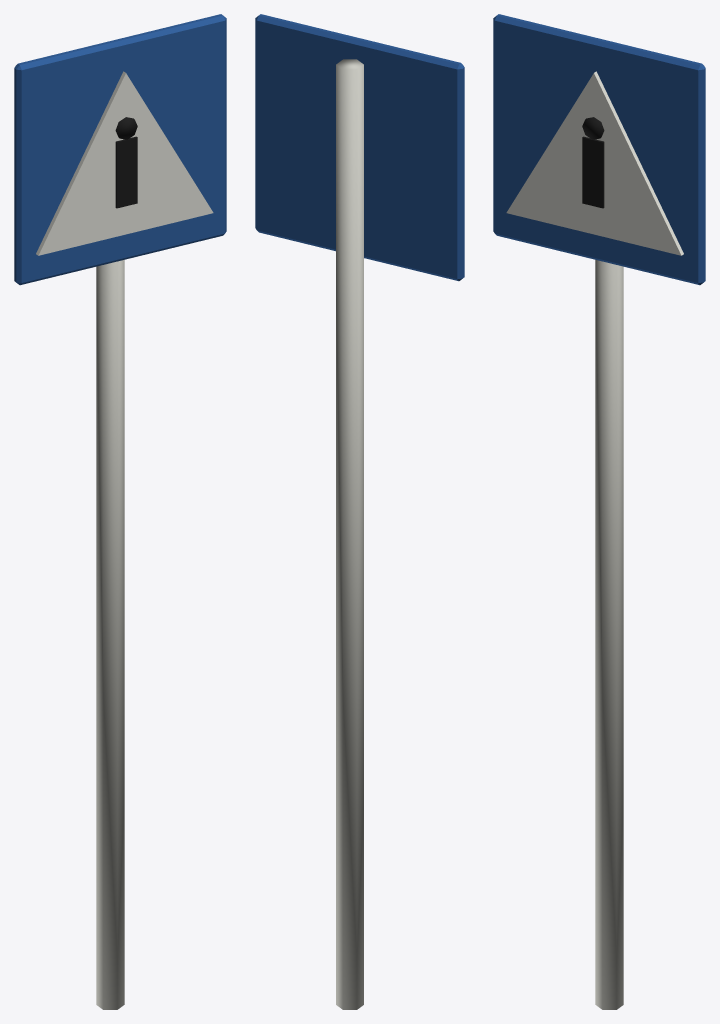
File: sign_crossing.glb
3 views of the same model, side by side, from view 1: azimuth 30°, elevation 25°; view 2: azimuth 150°, elevation 25°; view 3: azimuth 330°, elevation 25° (orthographic).
Parts seen in each view (by area): view 1: RoadSign; view 2: RoadSign; view 3: RoadSign.
Boxes of the visible parts, x1,y1,x2,y2 form: RoadSign: (14, 14, 226, 1009); RoadSign: (255, 14, 464, 1009); RoadSign: (493, 14, 705, 1009).
Size of the model in its own units: 0.6 by 2.65 by 0.1185.
